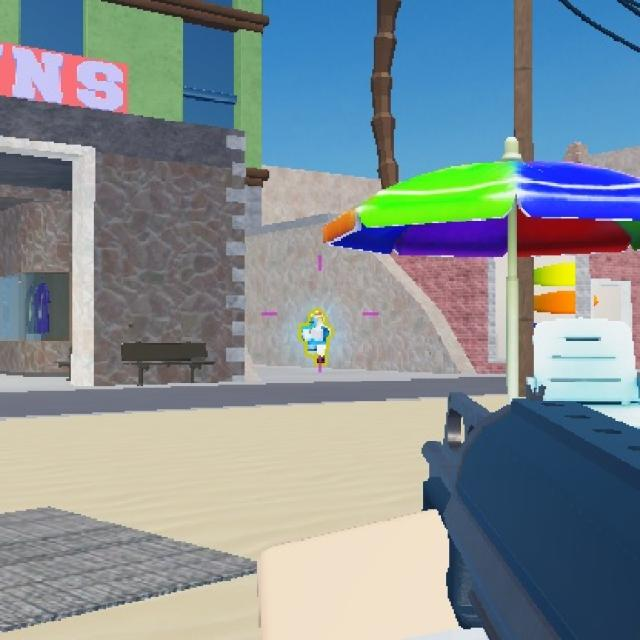player: (302, 308, 332, 365)
